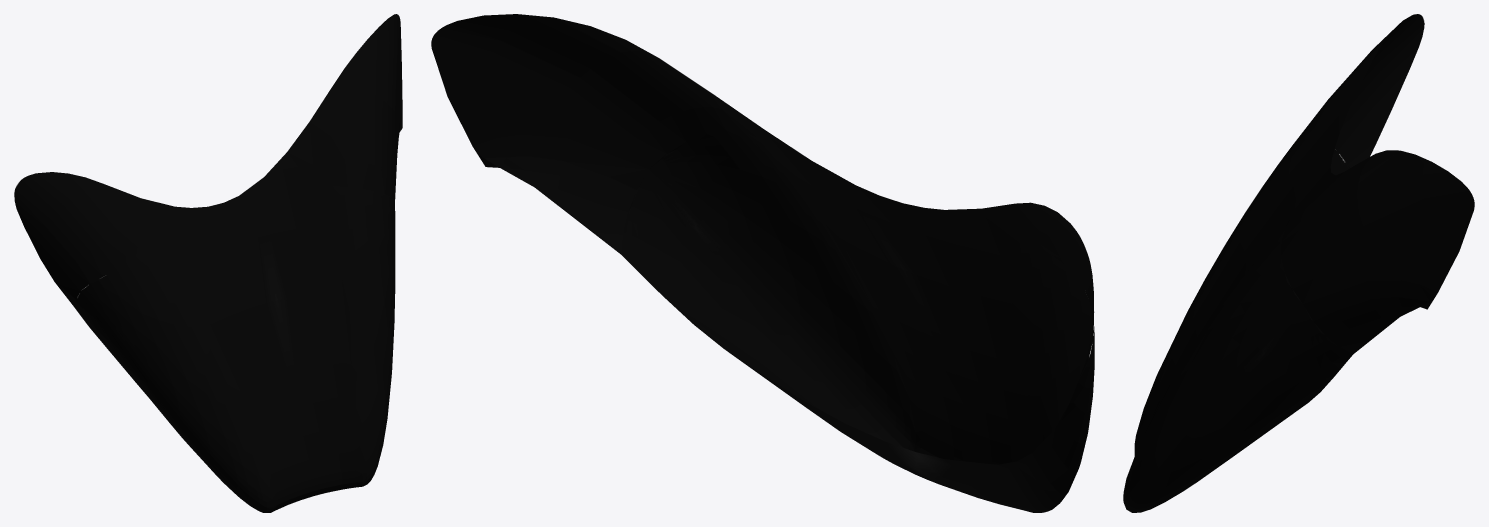
The model's file is RightHand.obj.
The picture shows the model from 3 angles, left to right: view 1: azimuth 30°, elevation 25°; view 2: azimuth 150°, elevation 25°; view 3: azimuth 270°, elevation 25°; orthographic projection. The views are drawn at different scales.
Visible parts, largest first — view 1: Linux_Tux.005; view 2: Linux_Tux.005; view 3: Linux_Tux.005.
Boxes of the visible parts, left/top/right/bottom form: Linux_Tux.005: left=14, top=14, right=402, bottom=512; Linux_Tux.005: left=431, top=14, right=1094, bottom=512; Linux_Tux.005: left=1123, top=14, right=1474, bottom=512.
Bounding box in the file's own units: 0.5896 × 0.4828 × 0.3469.
1 material, 1 textured.
